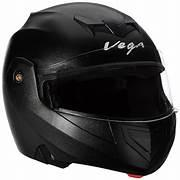Helmet: (3, 2, 175, 174)
